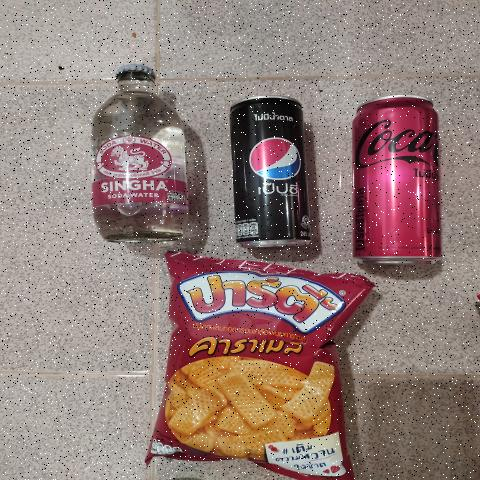coke_red: (346, 98, 446, 277)
party_red: (157, 262, 340, 464)
pepsi_black: (227, 98, 318, 252)
singha_soda: (87, 63, 193, 239)
